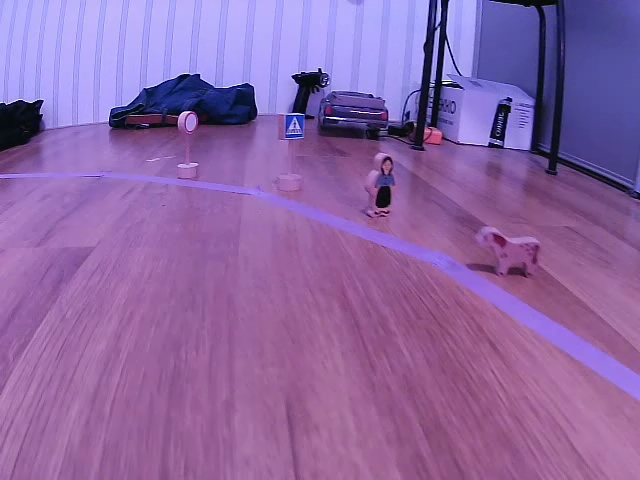mens: (364, 151, 397, 218)
paard: (474, 225, 542, 279)
wegdicht: (178, 109, 200, 136)
zebrapad: (280, 114, 308, 140)
